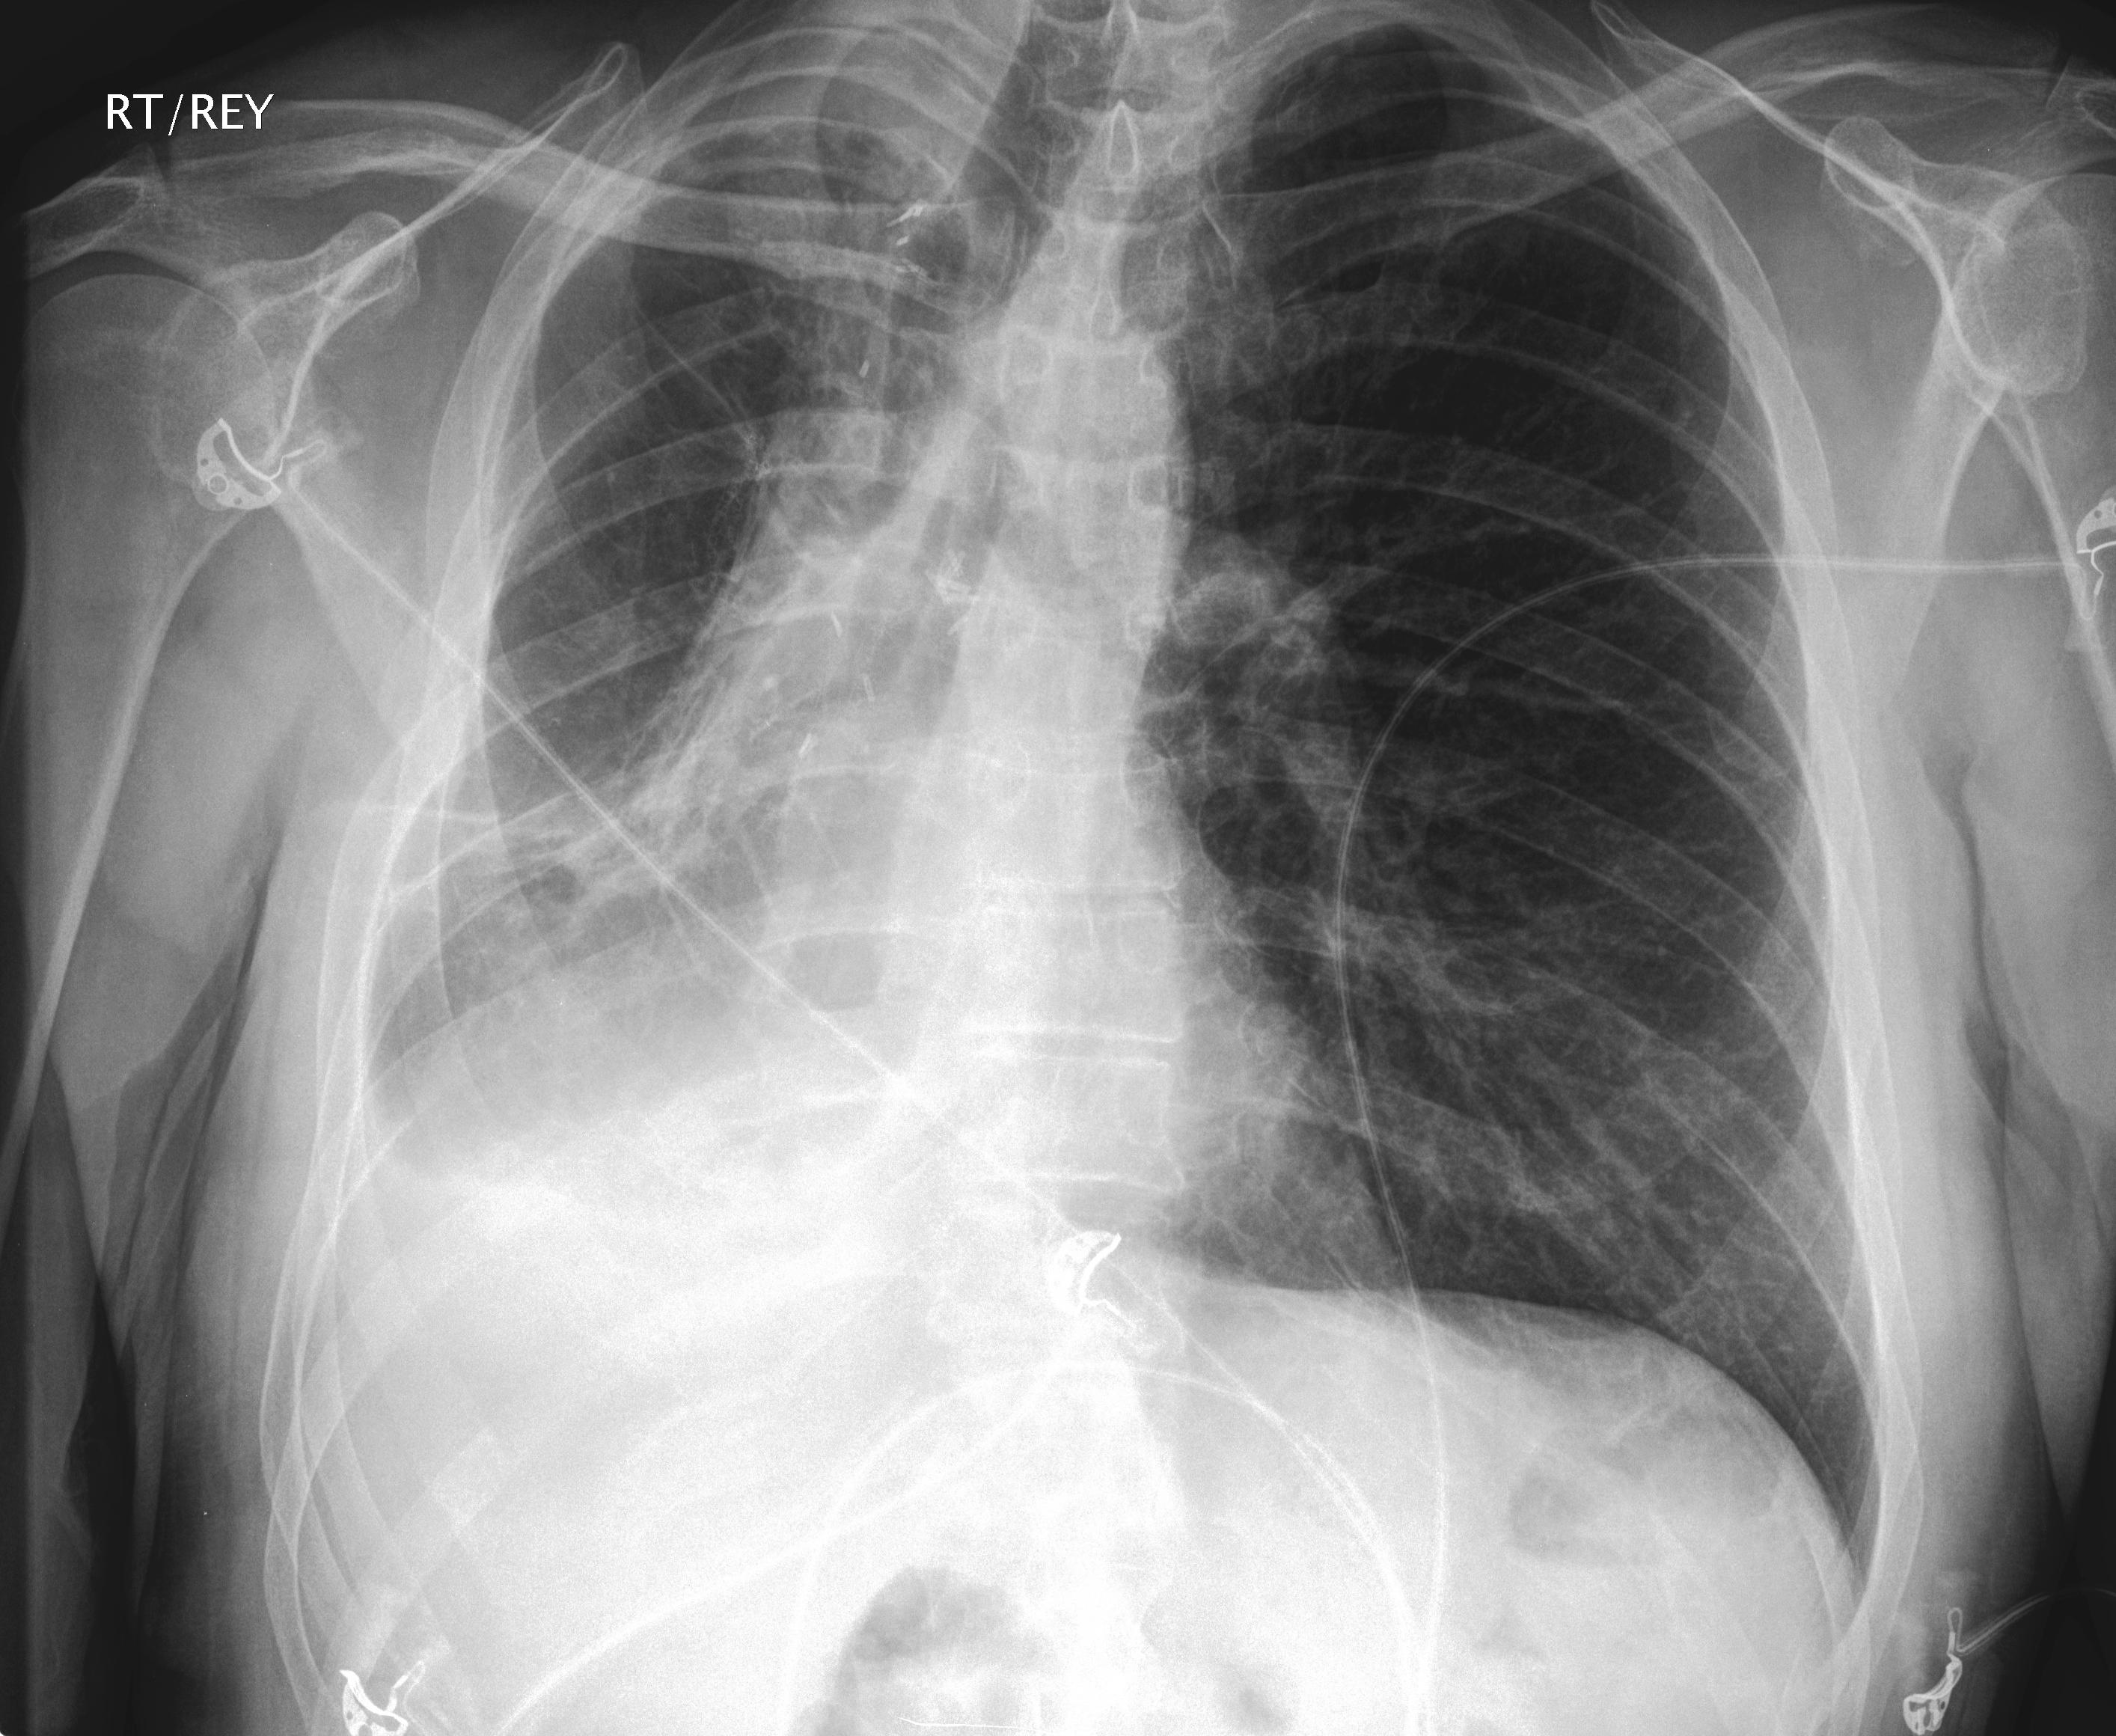Pleural Effusion: (341, 801, 808, 1574)
